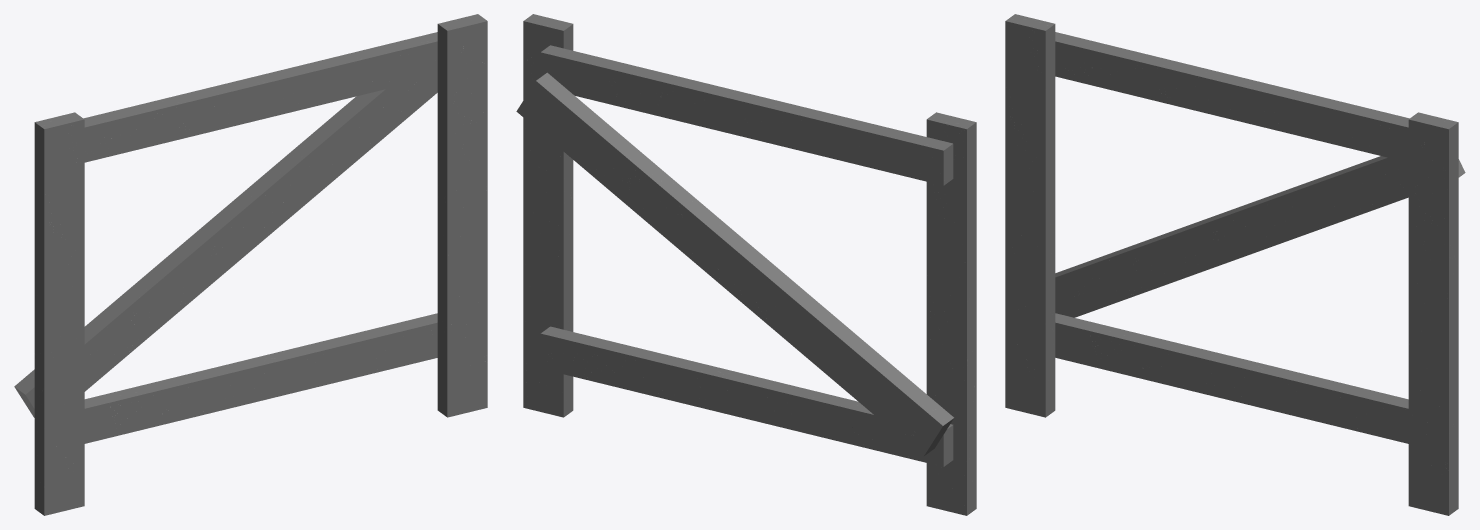
Rendered from Fence Gate.fbx.
3 renders of one model, left to right at view 1: azimuth 30°, elevation 25°; view 2: azimuth 150°, elevation 25°; view 3: azimuth 330°, elevation 25°, orthographic.
Parts seen in each view (by area): view 1: Fence Gate; view 2: Fence Gate; view 3: Fence Gate.
Part boxes in pixels (x1,y1,x2,y2): Fence Gate: (14,14,487,515); Fence Gate: (516,14,976,515); Fence Gate: (1005,14,1465,515).
Bounding box in the file's own units: 1320 × 1100 × 164.
